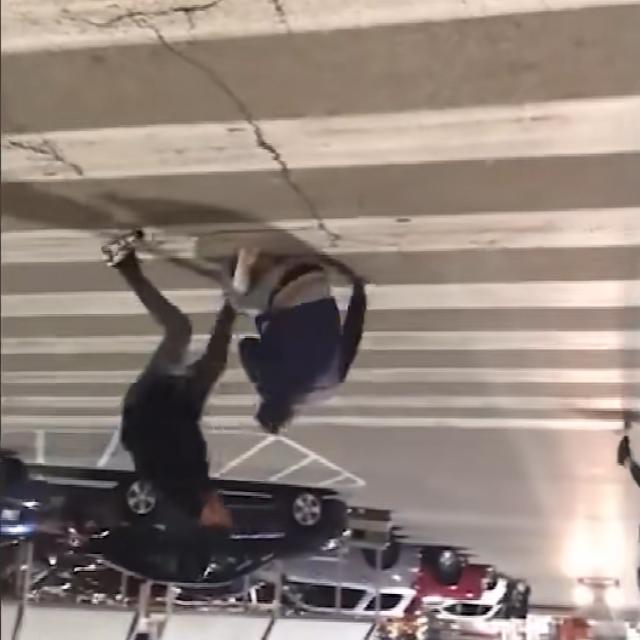nofight: (90, 191, 246, 561), (232, 232, 378, 465)
